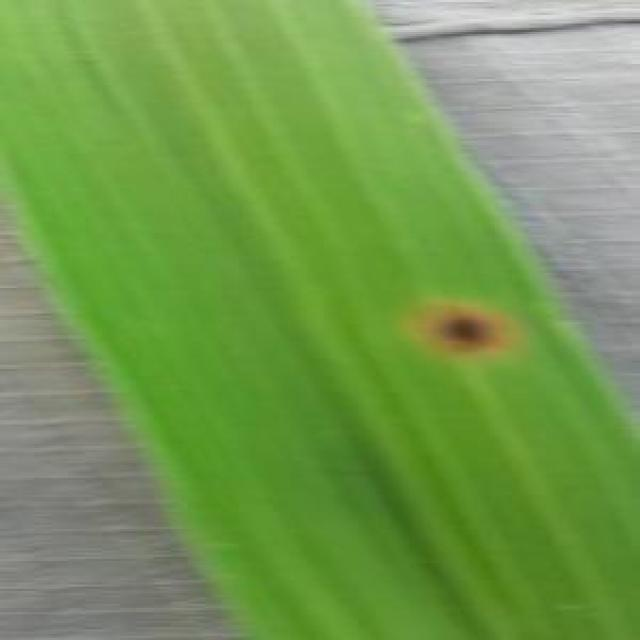brownspots: (418, 297, 504, 352)
